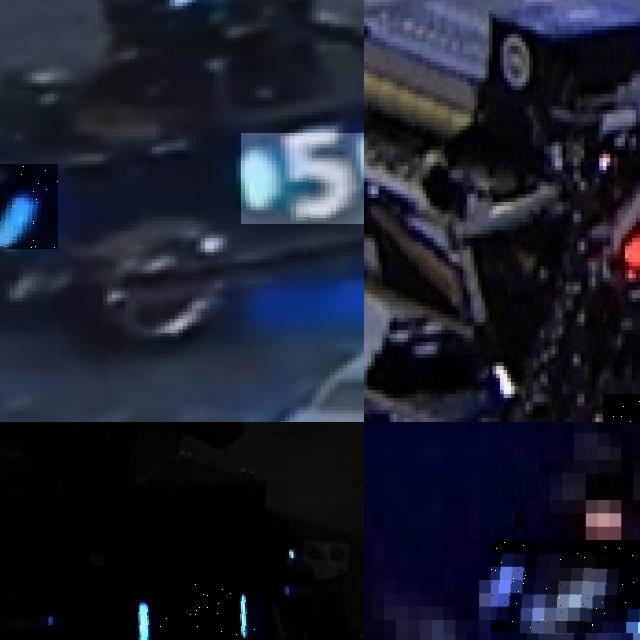B3: (490, 539, 640, 633)
B5: (240, 132, 364, 224), (0, 164, 58, 248)
Bs: (137, 581, 256, 640)
